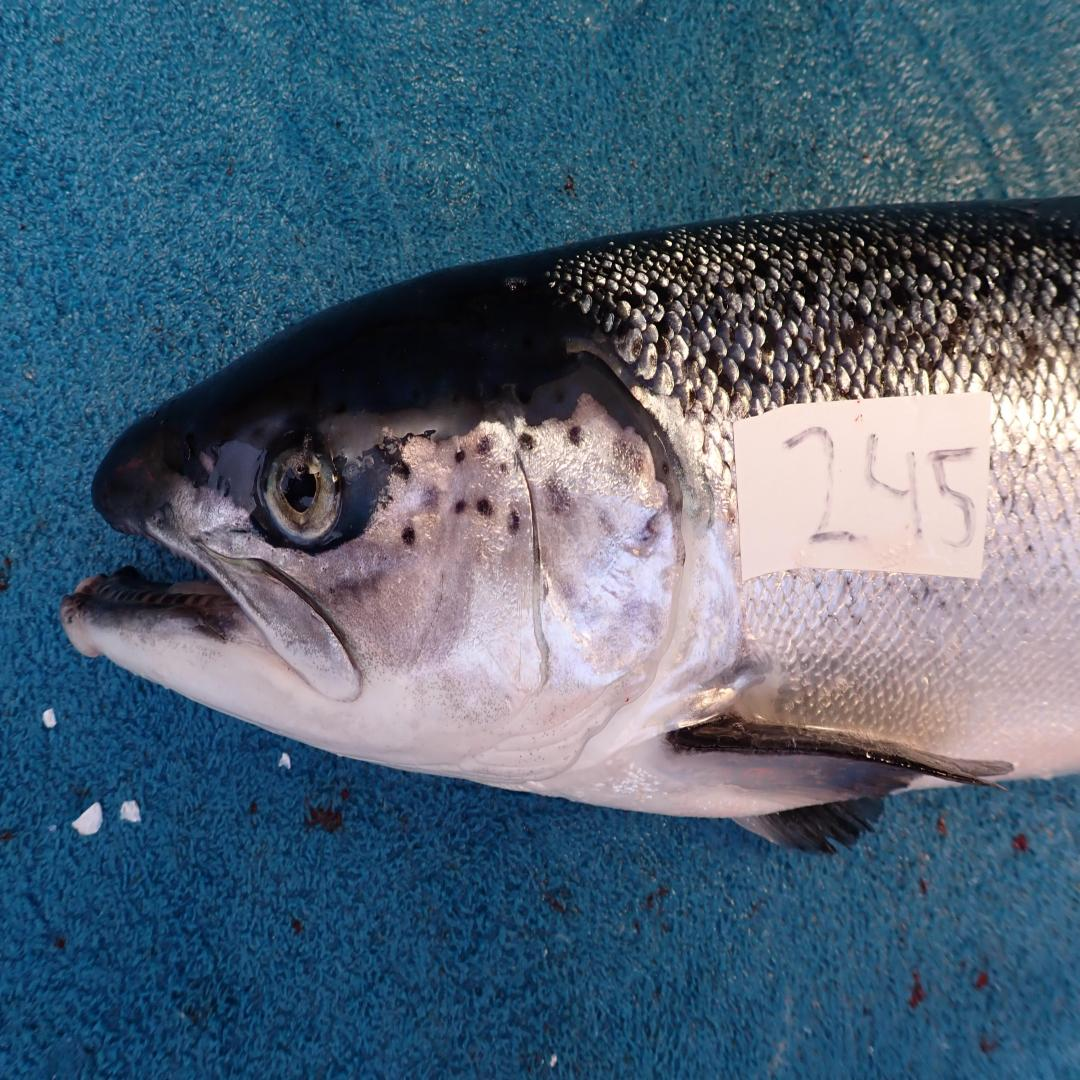spot: (376, 437, 410, 478), (614, 441, 642, 476), (546, 478, 570, 513), (640, 514, 656, 542), (420, 488, 438, 508), (401, 526, 416, 546), (567, 425, 582, 444), (520, 432, 535, 451), (477, 498, 491, 518), (477, 435, 491, 454), (454, 498, 468, 515), (509, 511, 519, 532), (456, 450, 466, 461), (500, 463, 508, 473)
